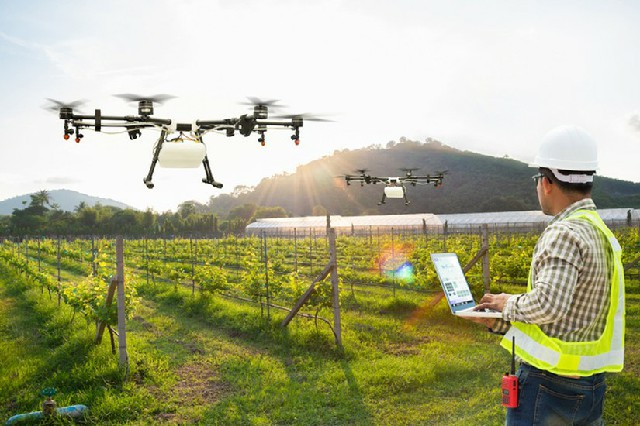maybay_khongnguoilai: (42, 89, 335, 180), (342, 159, 447, 212)
